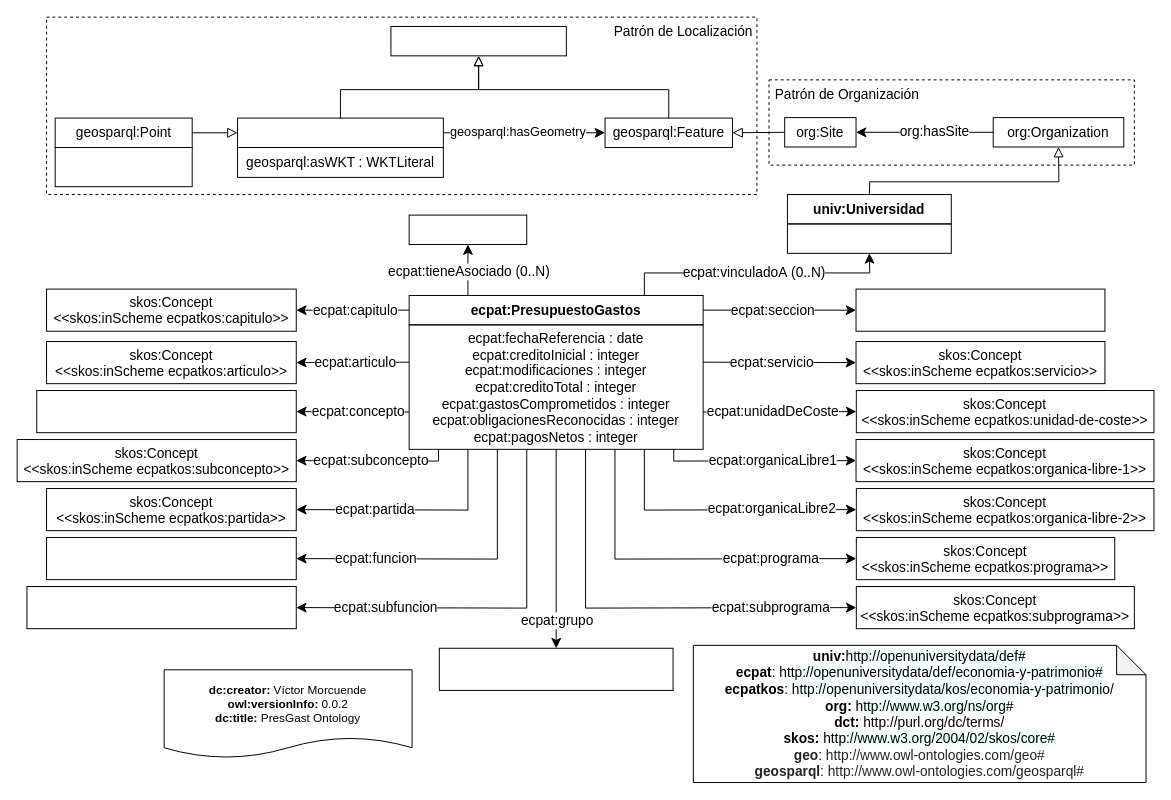
Some shapes in this 1171 by 800 pixel diagram are drawn without their labels. Here are the shapes that lost their labels. From the top down, the centre of each, then its label:
(478,40): geosparql:SpatialObject
(340,132): geosparql:Geometry
(123,167): geo:lat : double geo:long : double
(467,229): ecpat:Anio
(868,238): dct:identifier : string
(980,309): skos:Concept <<skos:inScheme ecpatkos:seccion>>
(166,411): skos:Concept <<skos:inScheme ecpatkos:concepto>>
(171,558): skos:Concept <<skos:inScheme ecpatkos:funcion>>
(161,607): skos:Concept <<skos:inScheme ecpatkos:subfuncion>>
(555,668): skos:Concept <<skos:inScheme ecpatkos:grupo>>
